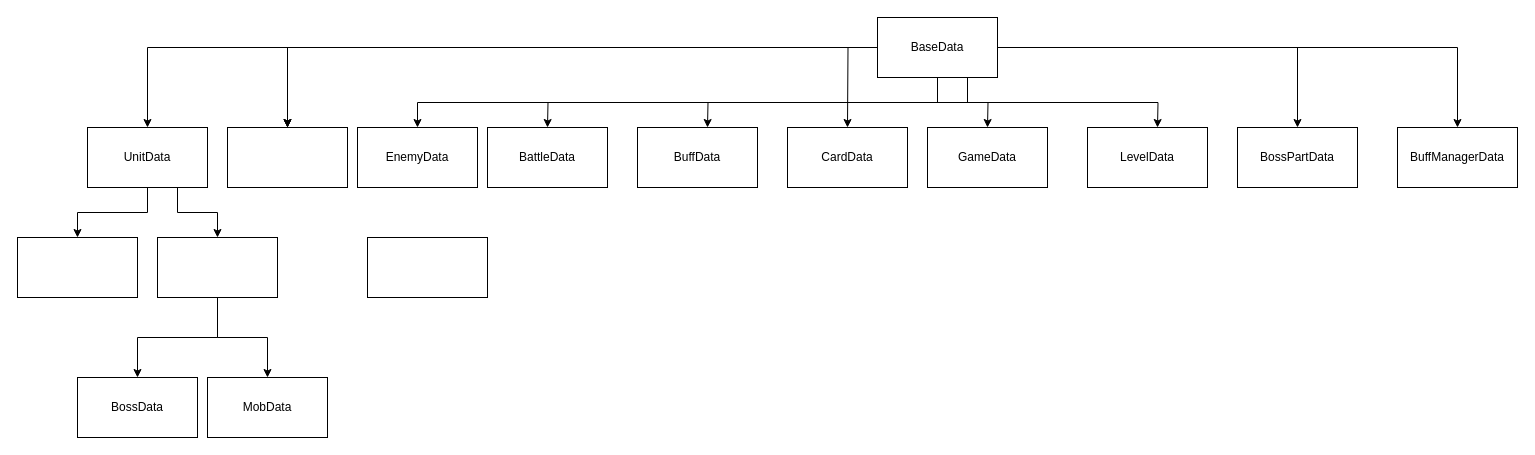
The diagram is 1535 pixels wide and 455 high, and some of its shapes have lost their labels. Each missing label, with the centre of its shape:
DataManager: the point at 427,267
HeroData: the point at 77,267
MonsterData: the point at 217,267
PlayerData: the point at 287,157
